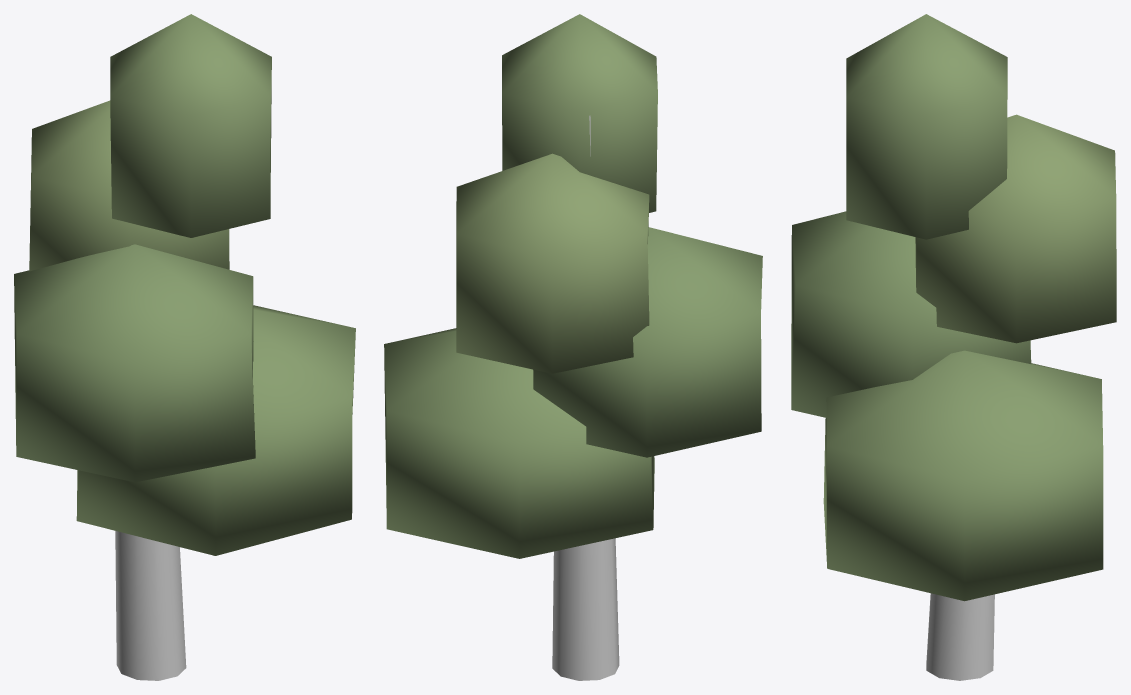
The model's file is pine_v2_mid.gltf.
The picture shows the model from 3 angles, left to right: view 1: azimuth 30°, elevation 25°; view 2: azimuth 150°, elevation 25°; view 3: azimuth 270°, elevation 25°; orthographic projection. The views are drawn at different scales.
Visible parts, largest first — view 1: foliage, bark; view 2: foliage, bark; view 3: foliage, bark.
Boxes of the visible parts, x1,y1,x2,y2 form: foliage: (14,14,355,555); bark: (115,531,186,680); foliage: (384,14,762,558); bark: (552,115,619,680); foliage: (791,14,1116,601); bark: (926,593,994,680).
Size of the model in its own units: 2.65 by 4.57 by 2.03.
